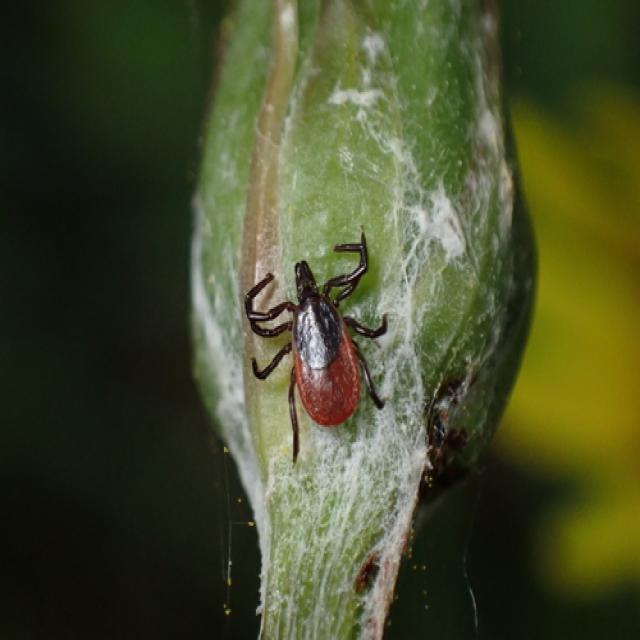Ixodes Ricinus-F: (243, 232, 387, 468)
